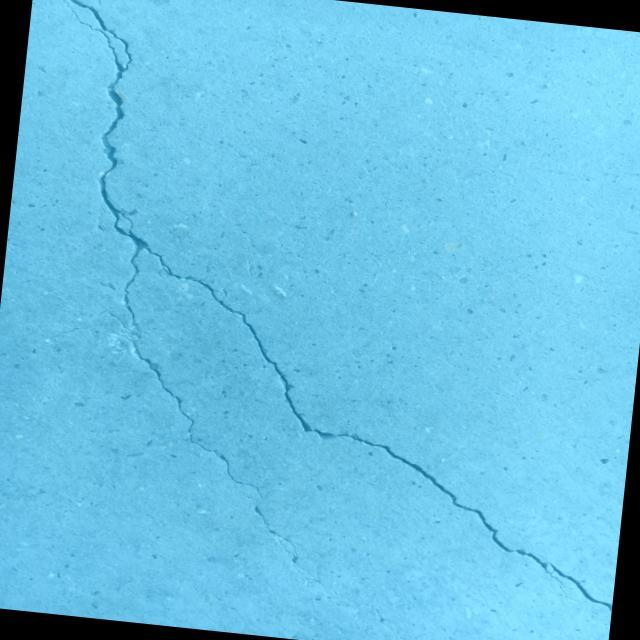crack: (0, 0, 640, 611), (233, 494, 353, 597), (359, 601, 409, 640), (39, 322, 94, 343)
